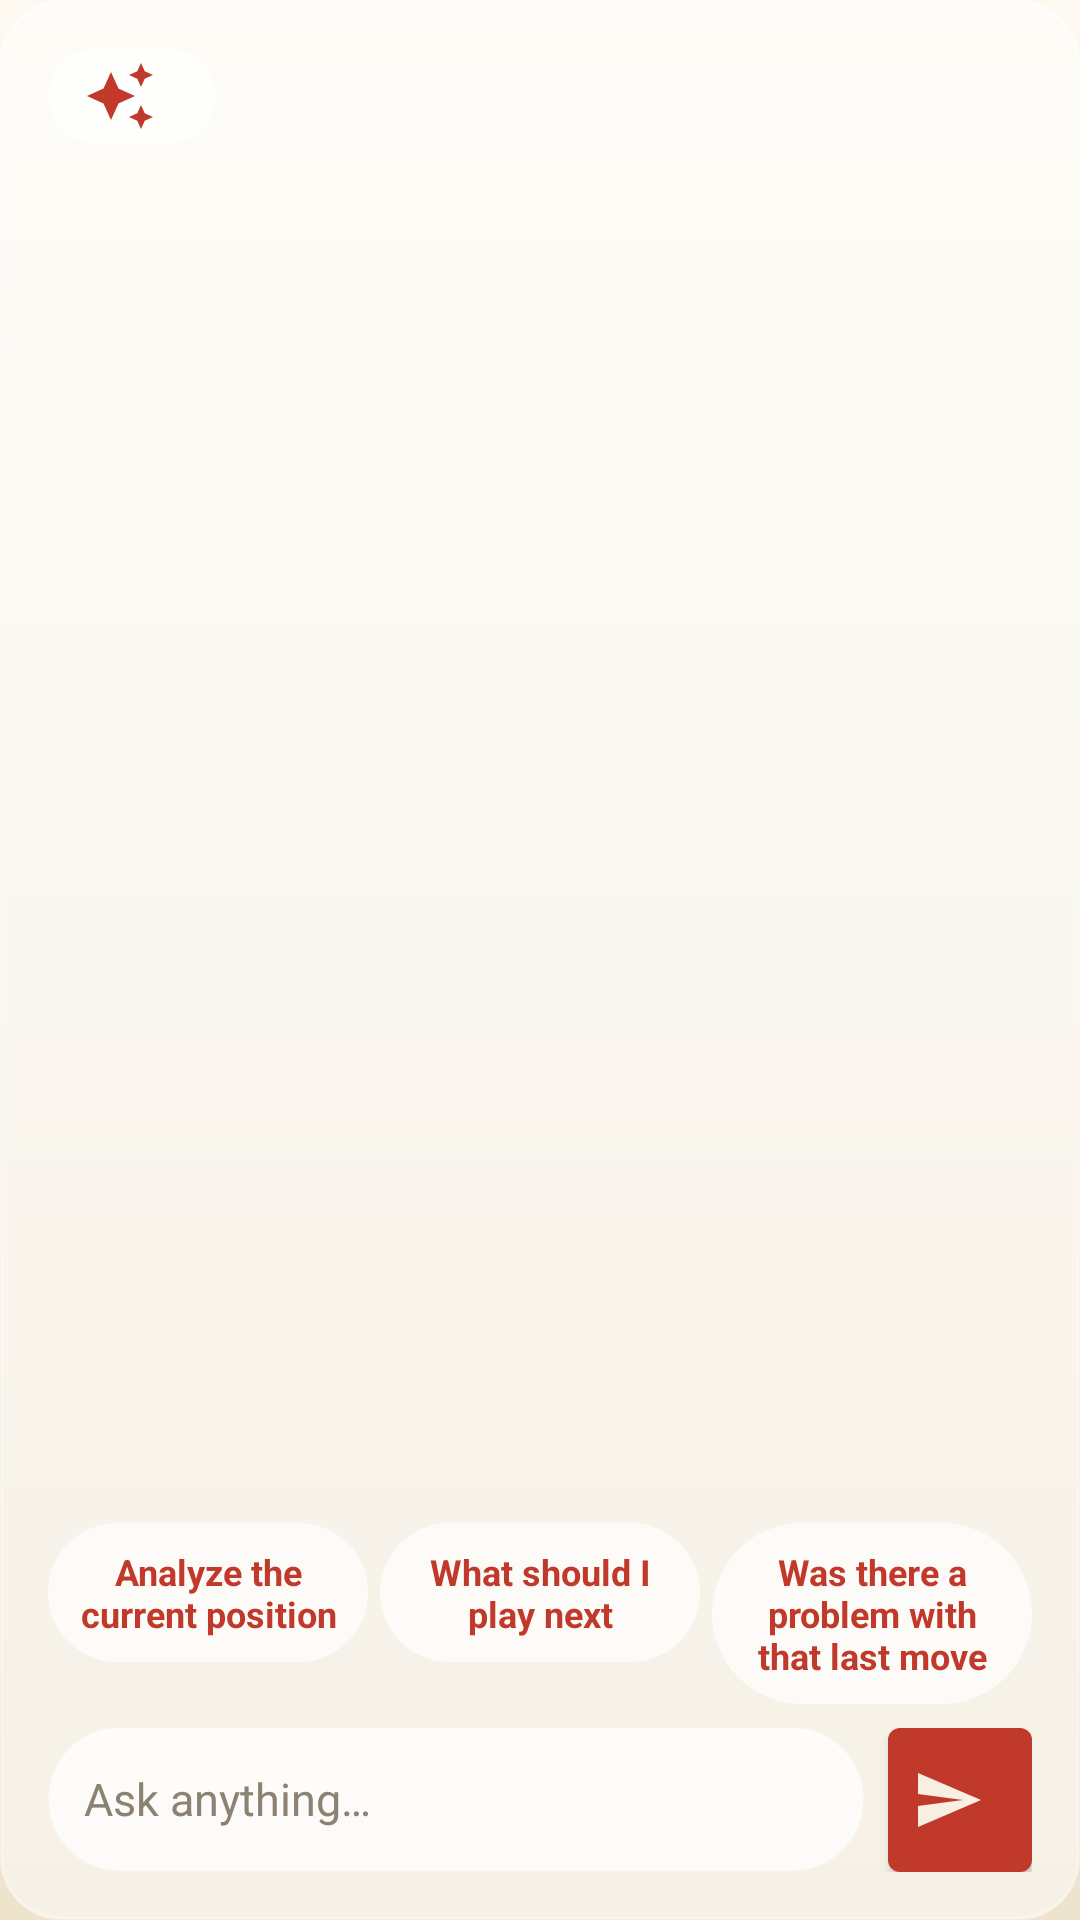

Icons on this 1080×1920 Android screen, each with the point to tap as (x,y):
send: (960,1800)
